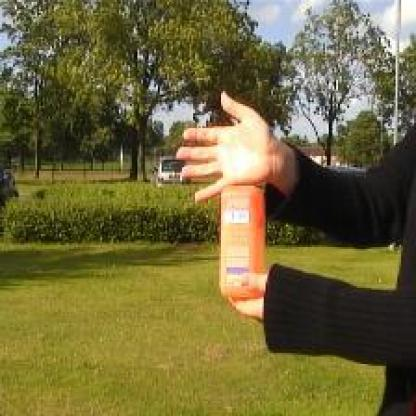other: (174, 116, 287, 179), (213, 176, 267, 304)
